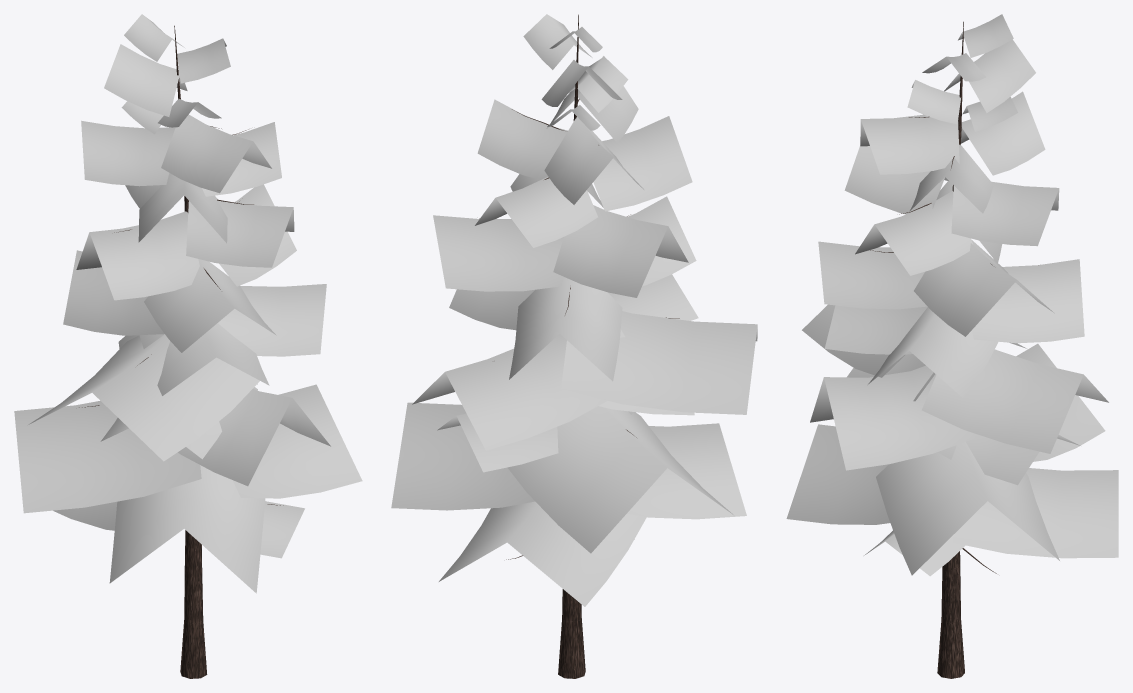
File: PineTree2.fbx
3 renders of one model, left to right at view 1: azimuth 30°, elevation 25°; view 2: azimuth 150°, elevation 25°; view 3: azimuth 270°, elevation 25°, orthographic. The views are drawn at different scales.
Visible parts, largest first — view 1: branch_LOD0, bark_LOD0; view 2: branch_LOD0, bark_LOD0; view 3: branch_LOD0, bark_LOD0.
Part boxes in pixels (x1=…): branch_LOD0: x1=14, y1=14, x2=362, y2=593; bark_LOD0: x1=79, y1=25, x2=283, y2=678; branch_LOD0: x1=391, y1=14, x2=757, y2=606; bark_LOD0: x1=479, y1=14, x2=679, y2=678; branch_LOD0: x1=786, y1=14, x2=1118, y2=576; bark_LOD0: x1=870, y1=21, x2=996, y2=678.
Size of what is drawn, in the model's own units: 2327 by 4537 by 2113.
